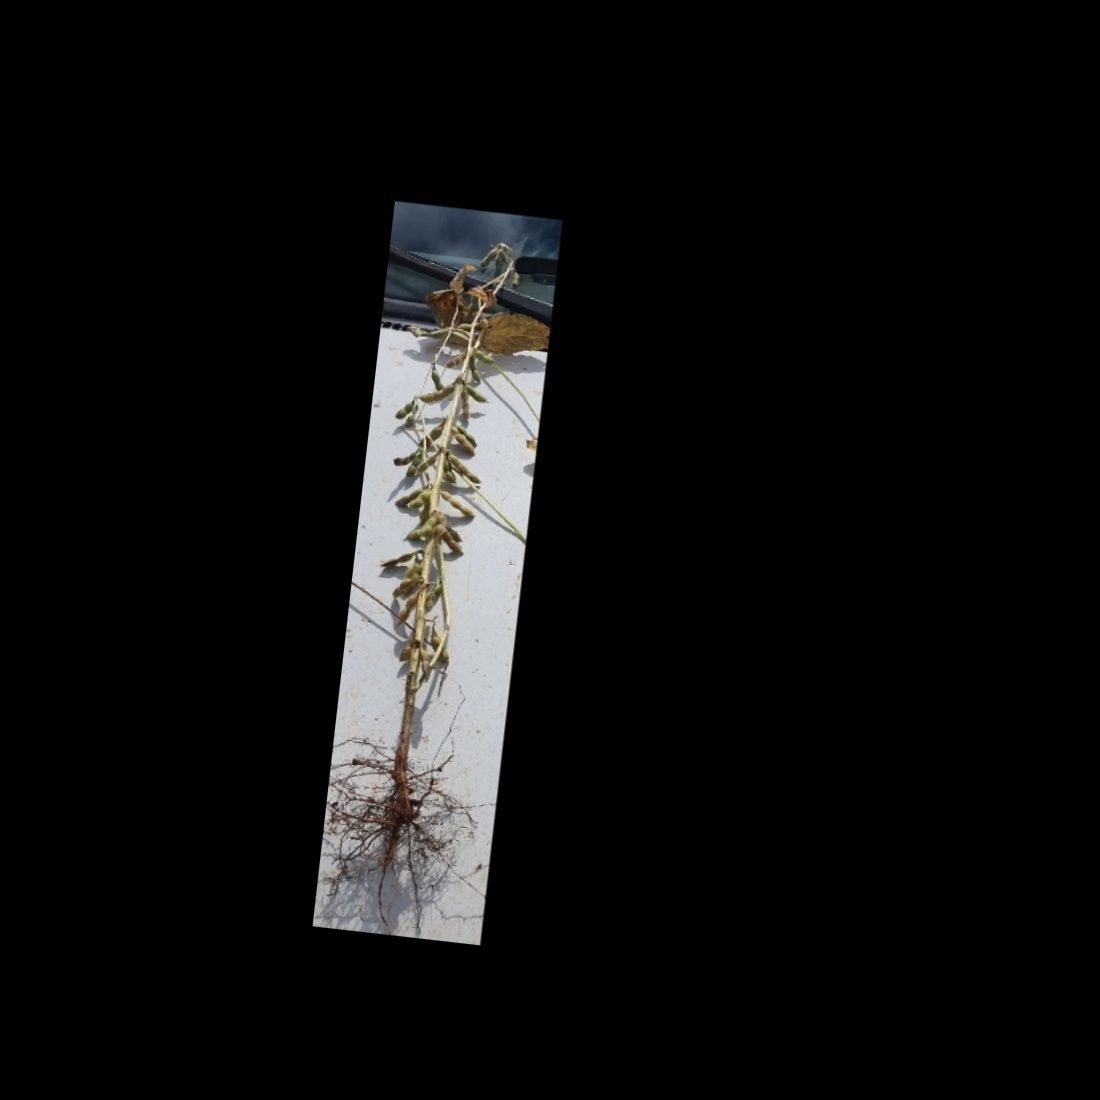pod: (425, 625, 457, 666), (438, 489, 477, 517), (449, 454, 484, 484), (377, 546, 412, 572), (395, 593, 418, 632), (406, 486, 434, 515), (404, 523, 436, 542), (417, 451, 439, 476), (440, 458, 460, 485), (405, 454, 423, 479), (393, 400, 414, 421)
soy: (343, 228, 549, 849)
